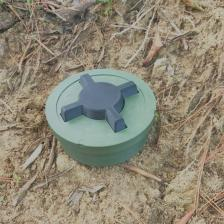PMN2: (42, 63, 164, 172)
